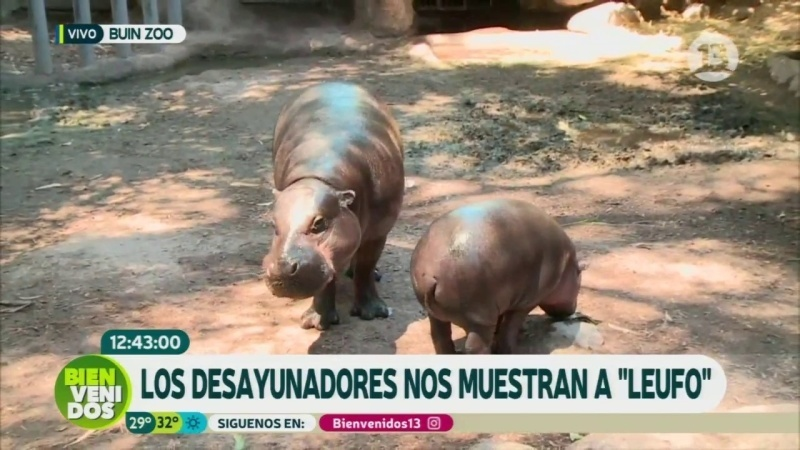hipopotamo: (243, 70, 409, 334), (403, 184, 613, 353)
